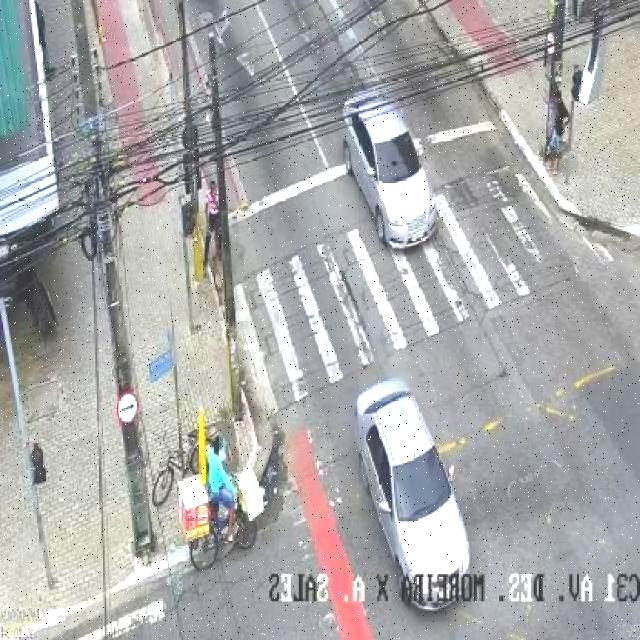Car: (355, 376, 471, 610), (342, 90, 439, 248)
Cycle: (186, 498, 258, 570), (150, 427, 199, 508)
